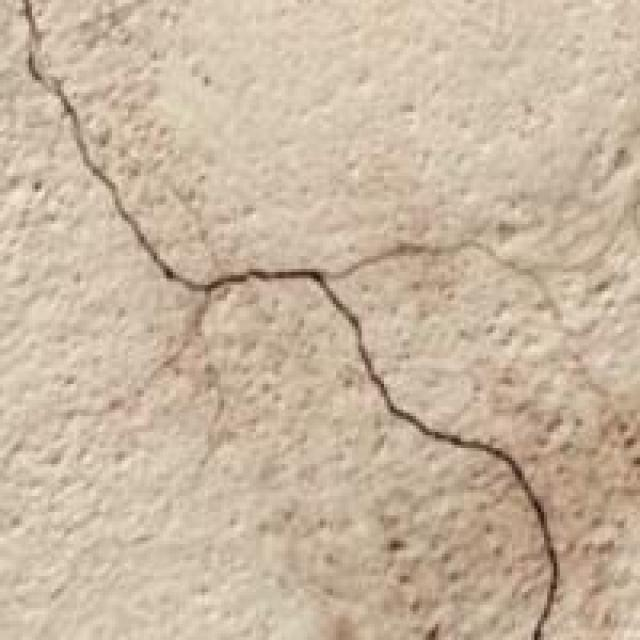Crack: (13, 3, 589, 637)
